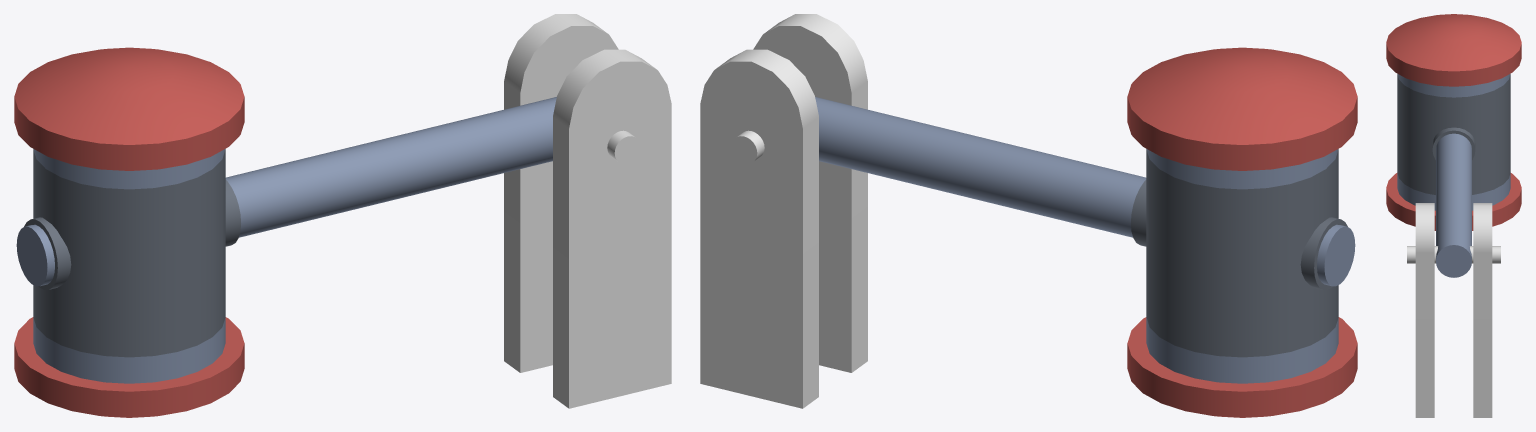
Rendered from Obstacle4.fbx.
3 renders of one model, left to right at view 1: azimuth 30°, elevation 25°; view 2: azimuth 150°, elevation 25°; view 3: azimuth 270°, elevation 25°, orthographic. The views are drawn at different scales.
Parts seen in each view (by area): view 1: Obstacle4, pCube2, polySurface1, pCube1, polySurface2, pCylinder3, polySurface3; view 2: Obstacle4, pCube1, polySurface1, pCube2, polySurface2, pCylinder3, polySurface3; view 3: Obstacle4, polySurface1, pCube2, pCube1, polySurface3, pCylinder3.
Boxes of the visible parts, <box> form: Obstacle4: <box>14,47,244,417</box>; pCube2: <box>553,49,671,408</box>; polySurface1: <box>16,97,556,286</box>; pCube1: <box>504,14,618,372</box>; polySurface2: <box>24,217,71,289</box>; pCylinder3: <box>607,130,640,163</box>; polySurface3: <box>225,180,240,246</box>; Obstacle4: <box>1127,47,1357,417</box>; pCube1: <box>700,49,818,408</box>; polySurface1: <box>815,97,1355,286</box>; pCube2: <box>753,14,867,372</box>; polySurface2: <box>1300,217,1347,289</box>; pCylinder3: <box>731,130,764,163</box>; polySurface3: <box>1131,180,1146,246</box>; Obstacle4: <box>1386,14,1521,230</box>; polySurface1: <box>1436,133,1471,277</box>; pCube2: <box>1415,203,1434,417</box>; pCube1: <box>1473,203,1492,417</box>; polySurface3: <box>1432,127,1475,159</box>; pCylinder3: <box>1407,246,1500,263</box>.
Size of the model in its own units: 55.93 by 36.54 by 18.29.
